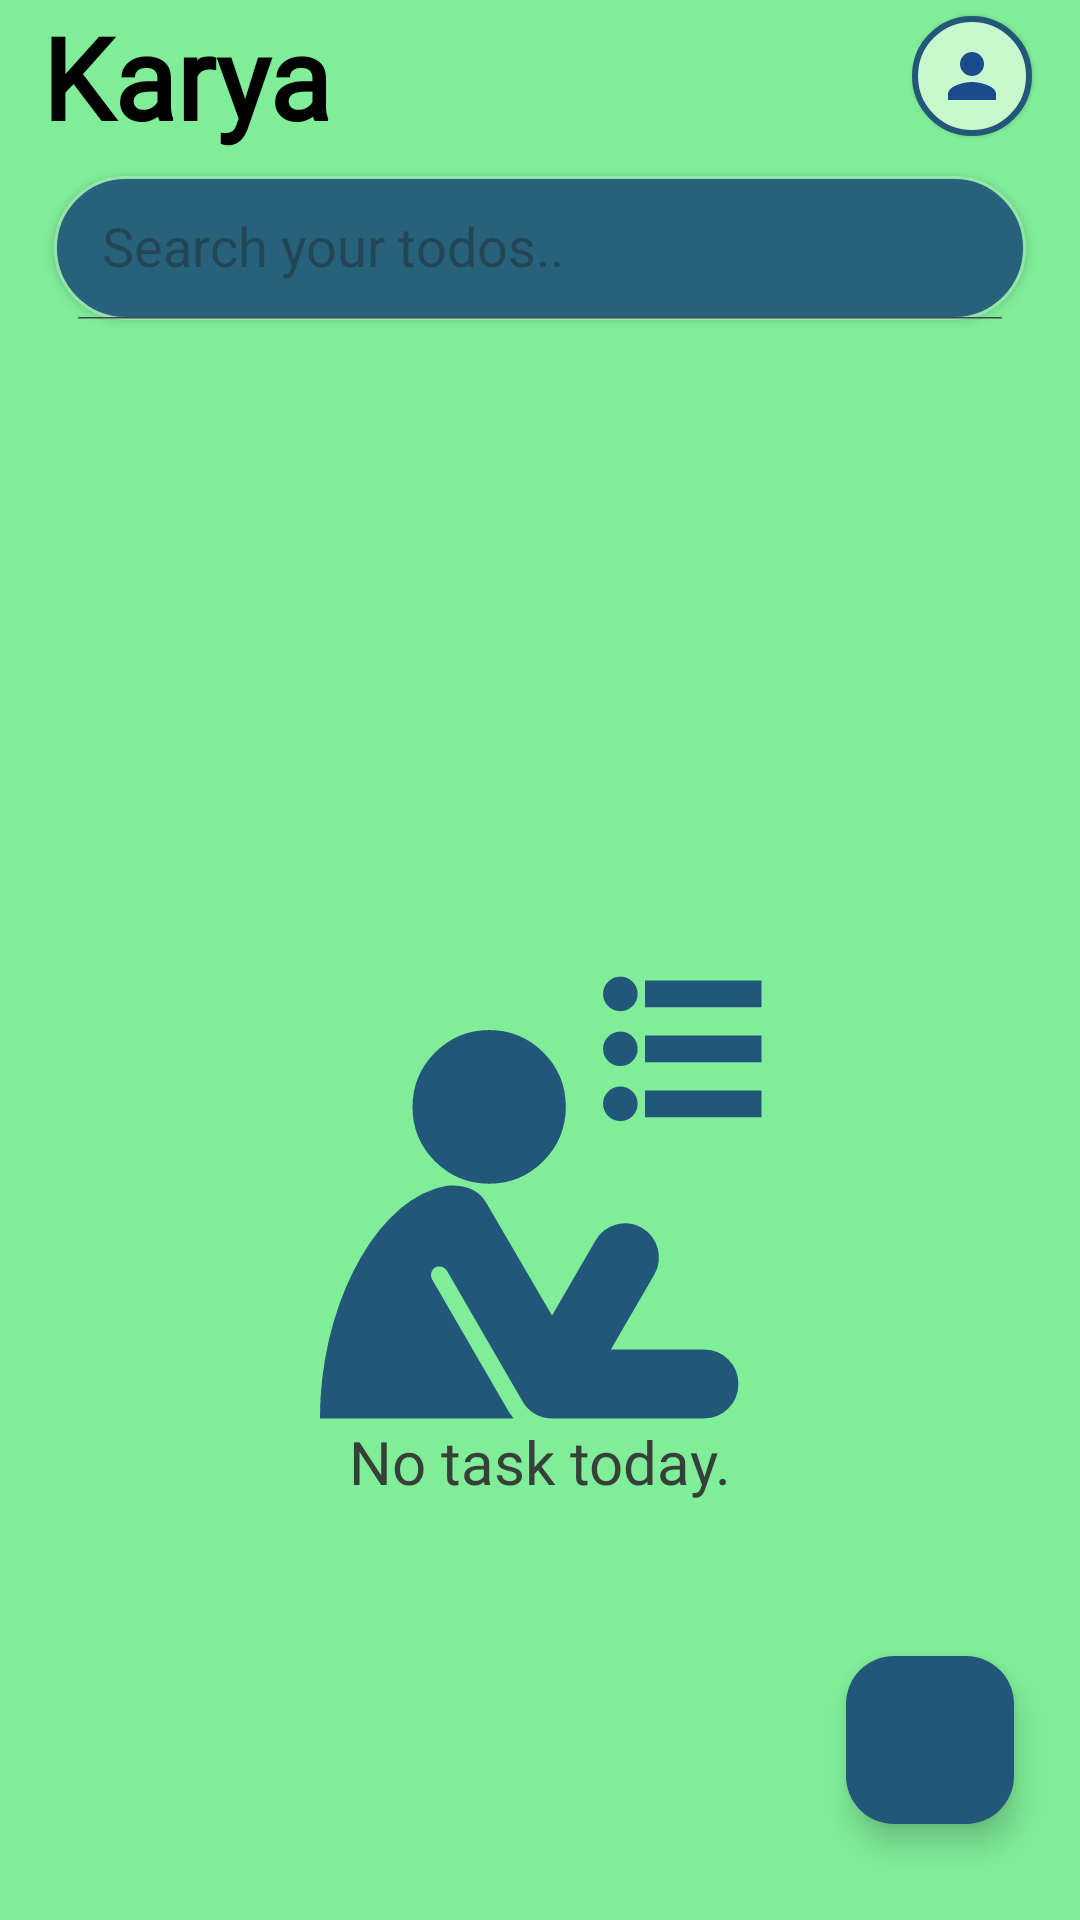

Point at icon controls on the screen. Image size 1080 x 1920, points as (x=x, y=y).
this is profile icon: (x=972, y=76)
